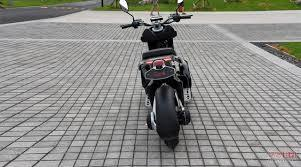motorcycle: (115, 0, 203, 150)
